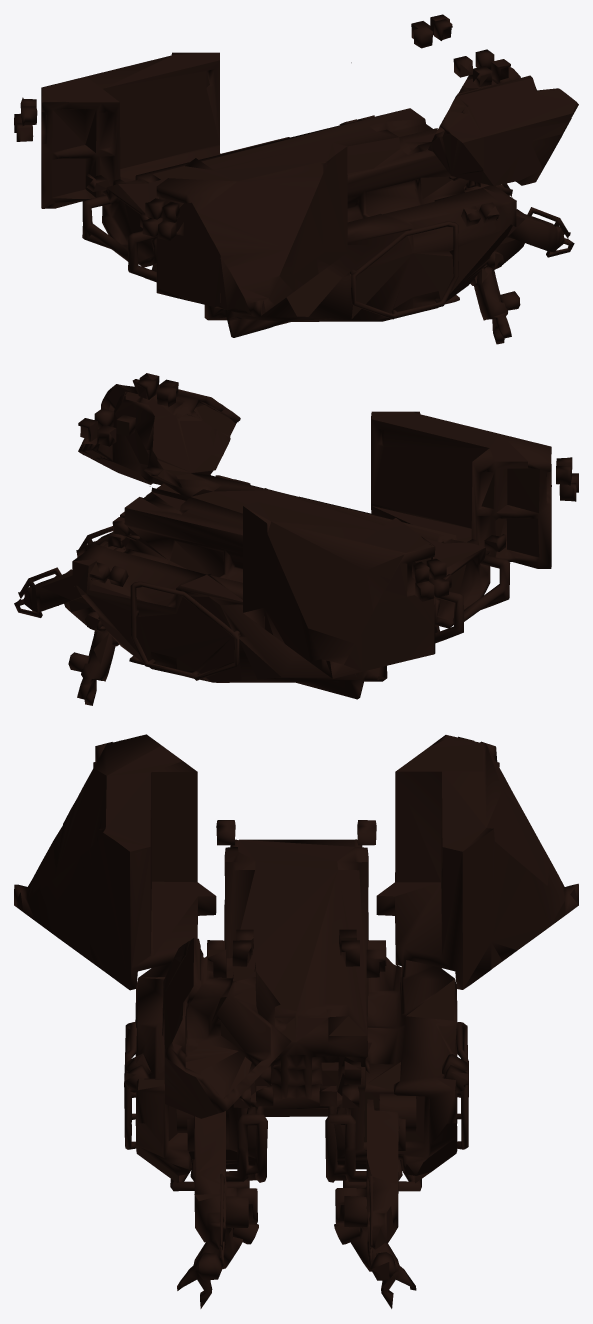
The model's file is debris-3.glb.
3 renders of one model, top to bottom at view 1: azimuth 30°, elevation 25°; view 2: azimuth 150°, elevation 25°; view 3: azimuth 270°, elevation 25°, orthographic. The views are drawn at different scales.
Bounding box in the file's own units: 6.39 × 3.65 × 5.15.
